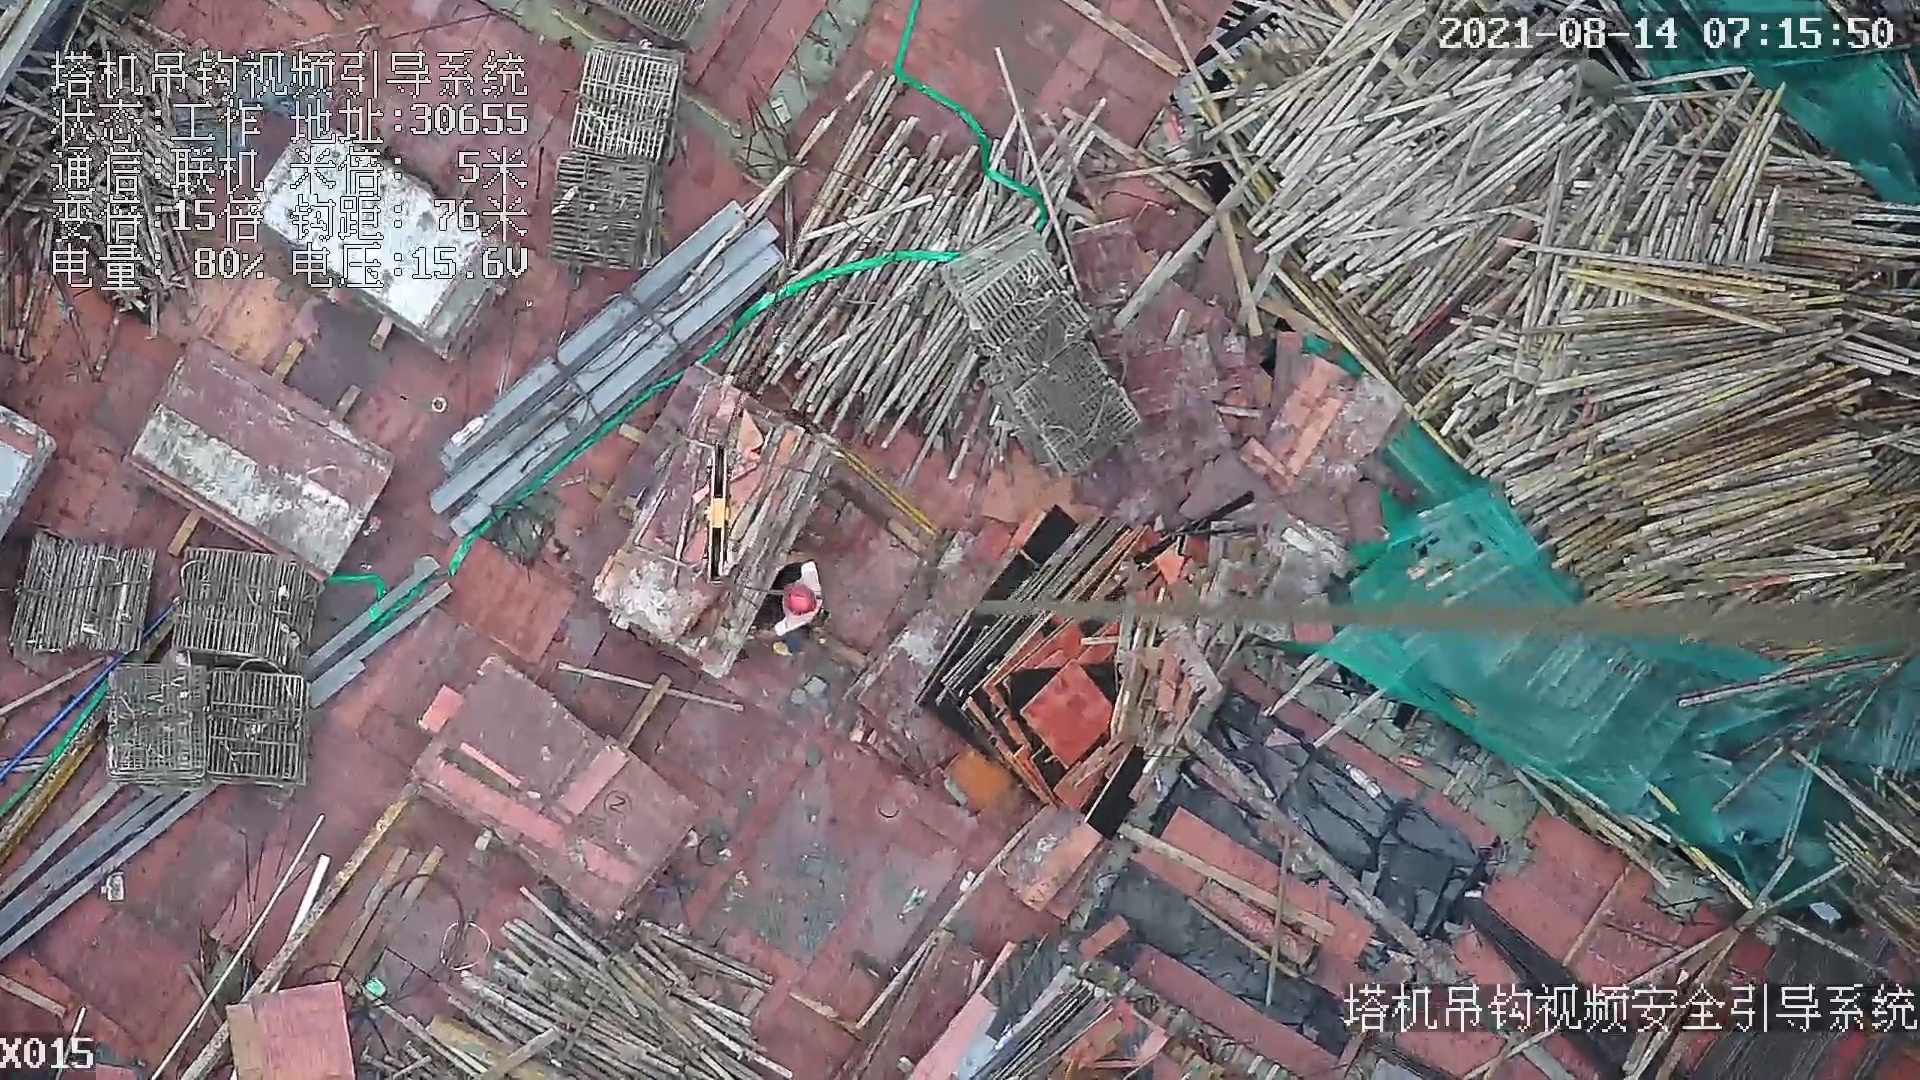helmet: (780, 580, 818, 620)
hook: (701, 441, 736, 585)
person: (763, 541, 826, 635)
